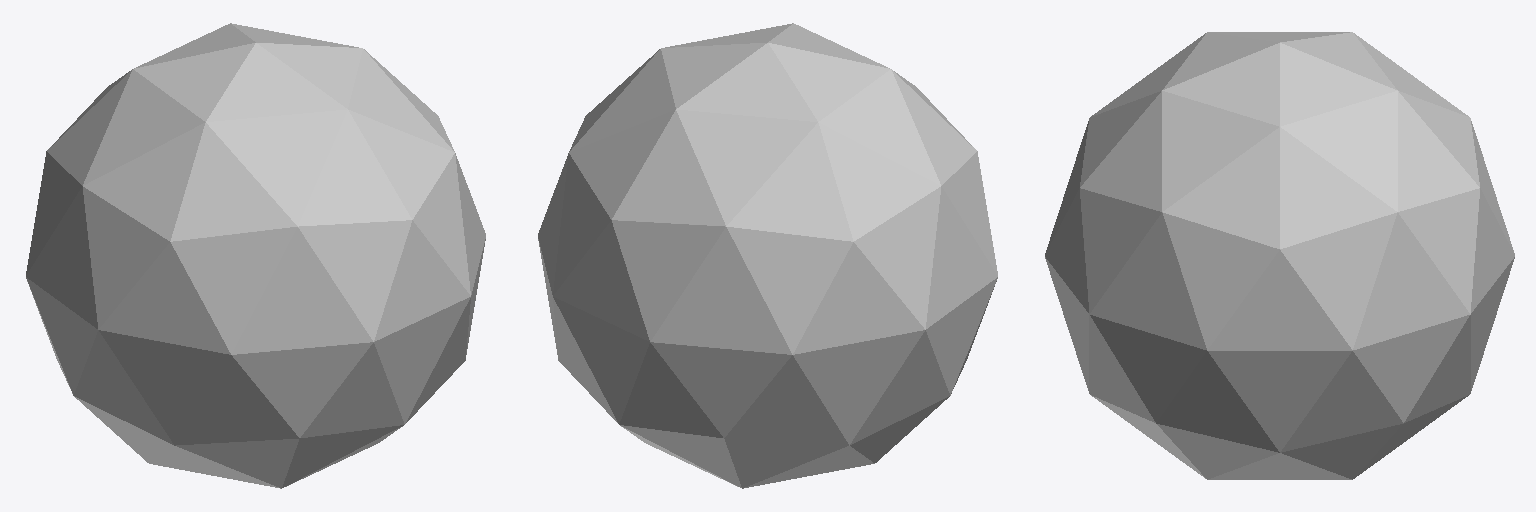
File: eye.obj
3 views of the same model, side by side, from view 1: azimuth 30°, elevation 25°; view 2: azimuth 150°, elevation 25°; view 3: azimuth 270°, elevation 25° (orthographic).
Visible parts, largest first — view 1: eye_L_Icosphere.002; view 2: eye_L_Icosphere.002; view 3: eye_L_Icosphere.002.
Part boxes in pixels (x1,y1,x2,y2): eye_L_Icosphere.002: (26,23,485,488); eye_L_Icosphere.002: (538,23,997,488); eye_L_Icosphere.002: (1045,32,1514,479).
Bounding box in the file's own units: 0.4858 × 0.5108 × 0.5108.